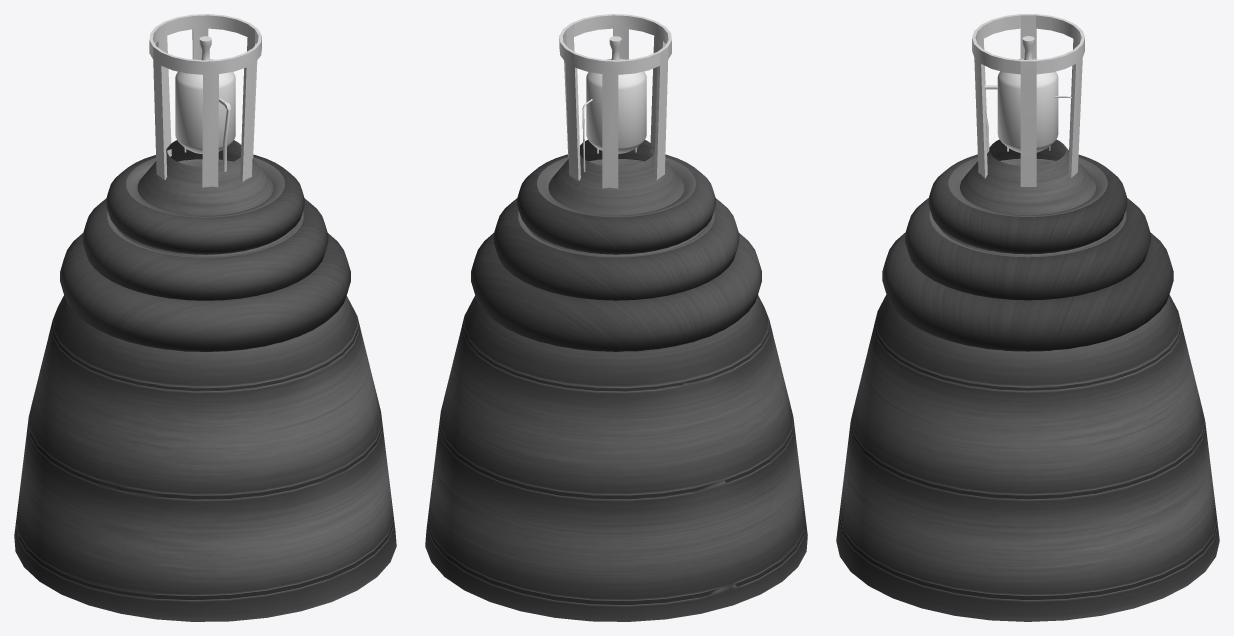
The model's file is merlinvacumesingle.fbx.
The picture shows the model from 3 angles, left to right: view 1: azimuth 30°, elevation 25°; view 2: azimuth 150°, elevation 25°; view 3: azimuth 270°, elevation 25°; orthographic projection.
Visible parts, largest first — view 1: Cone.003, Cylinder.001, Cylinder; view 2: Cone.003, Cylinder.001, Cylinder; view 3: Cone.003, Cylinder.001, Cylinder.
Boxes of the visible parts, <box> form: Cone.003: <box>14,140,396,621</box>; Cylinder.001: <box>149,14,261,187</box>; Cylinder: <box>175,59,235,153</box>; Cone.003: <box>425,140,807,621</box>; Cylinder.001: <box>559,14,671,188</box>; Cylinder: <box>586,58,646,153</box>; Cone.003: <box>836,139,1219,621</box>; Cylinder.001: <box>972,14,1084,186</box>; Cylinder: <box>997,58,1058,152</box>.
Size of what is drawn, in the model's own units: 200 by 290 by 200.
